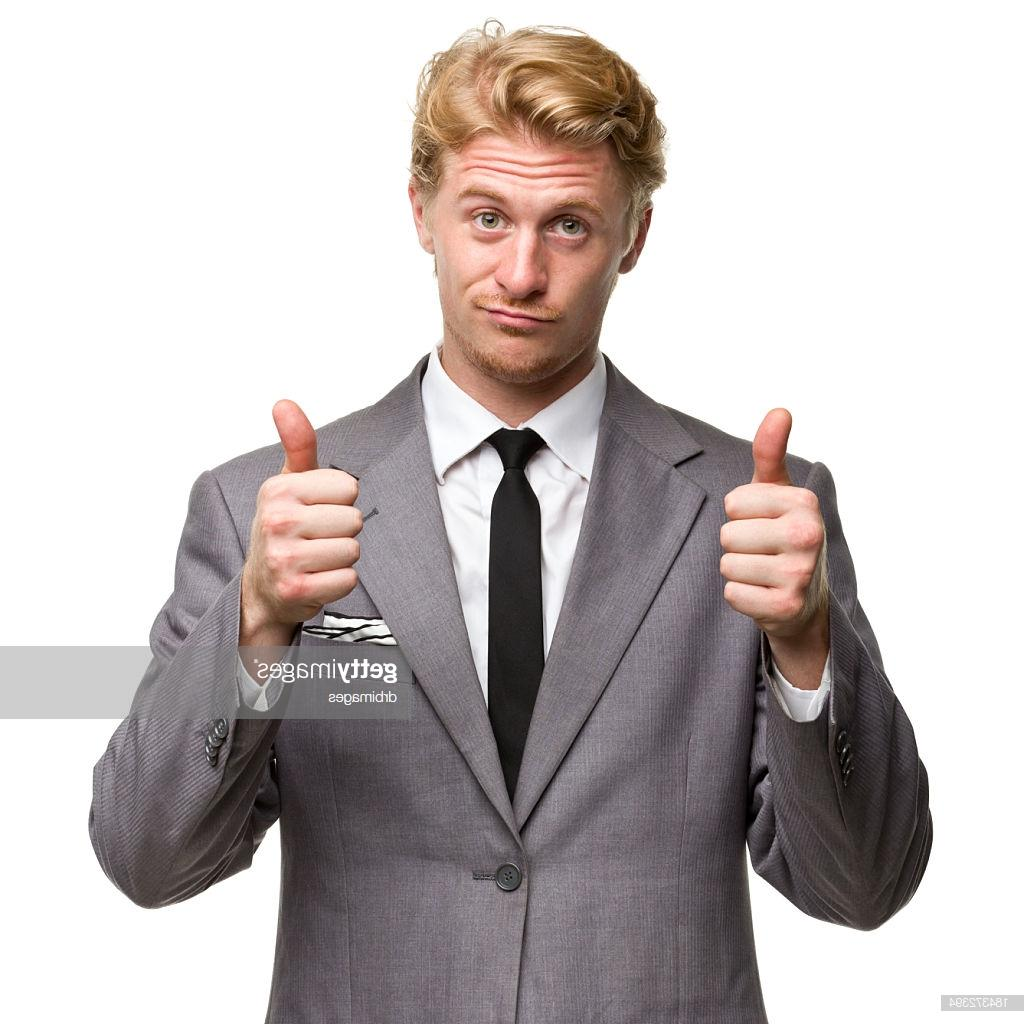thumbsup: (718, 406, 828, 625), (257, 398, 363, 611)
